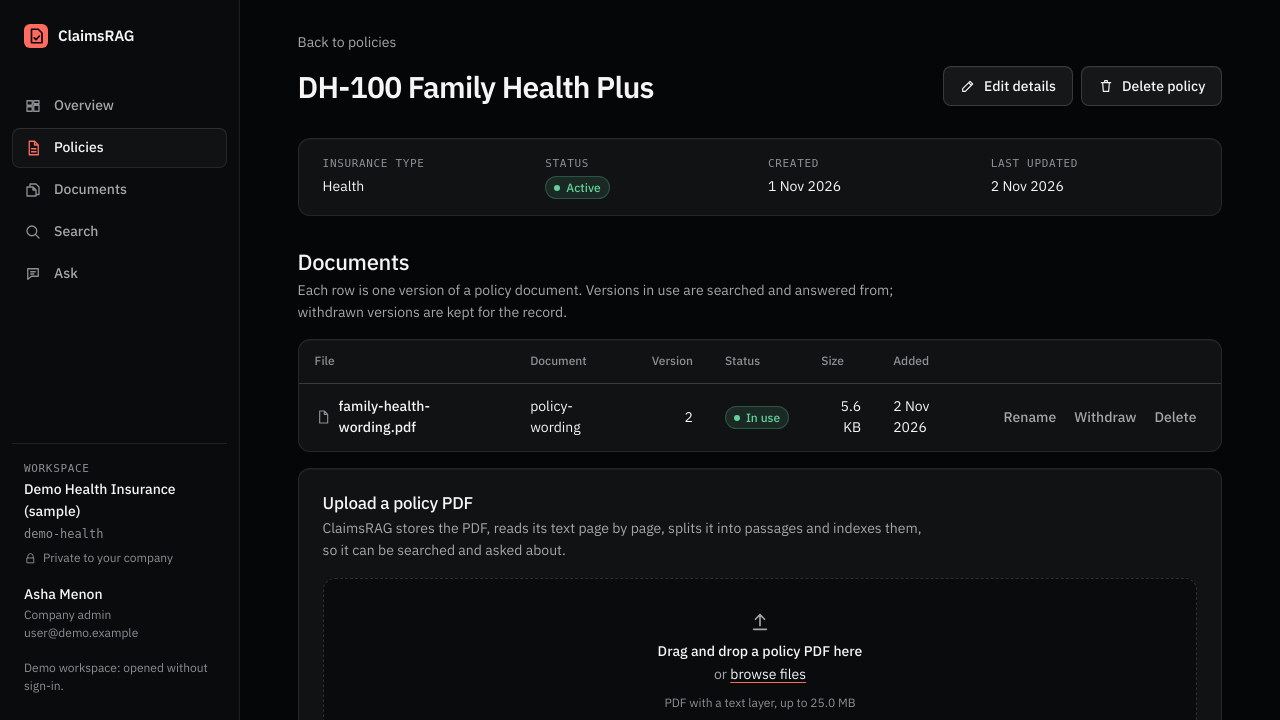
role-based controls (a courtesy: the backend decides) › shows the backend's refusal when an action is not allowed
Click the button named "Delete family-health-wording.pdf": (1175, 418) x1=1146 y1=402 x2=1205 y2=434
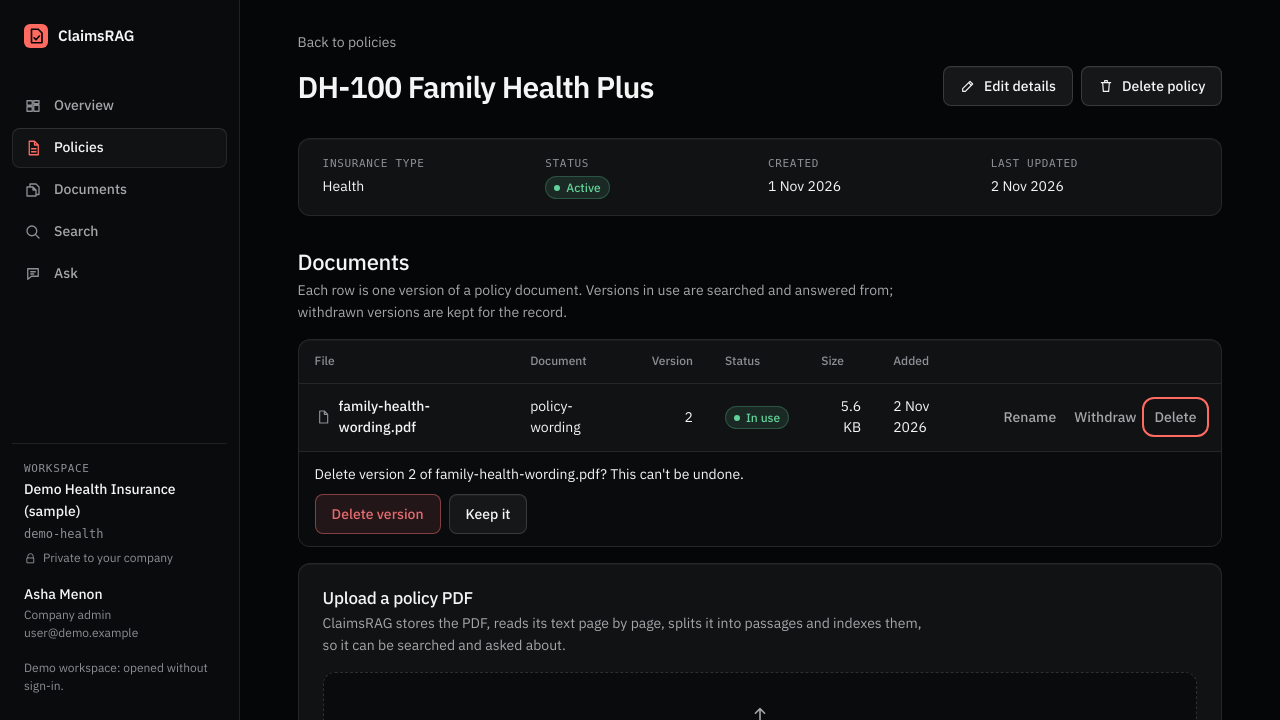
Click the button "Delete version": (378, 514) x1=315 y1=494 x2=441 y2=534
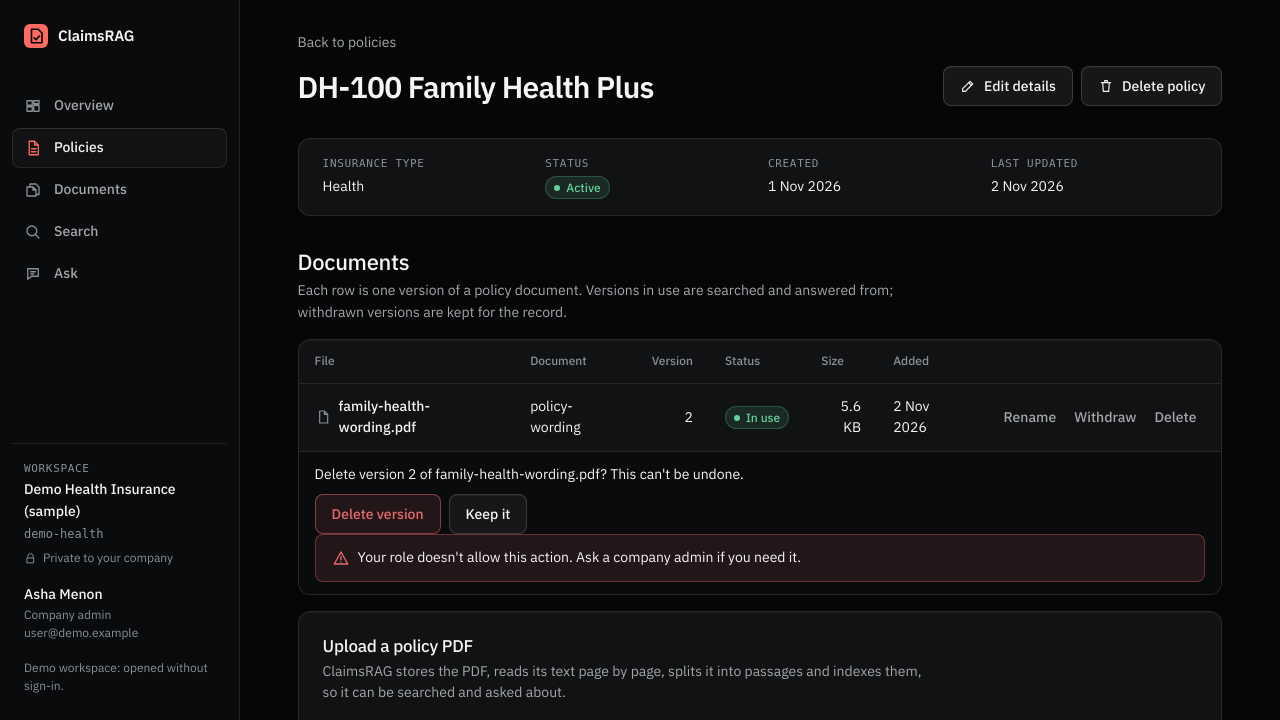
Expected: the cell "family-health-wording.pdf" is shown, x1=299 y1=384 x2=514 y2=452
Result: the message shows "Your role doesn't allow this action." at x1=358 y1=548 x2=801 y2=566
